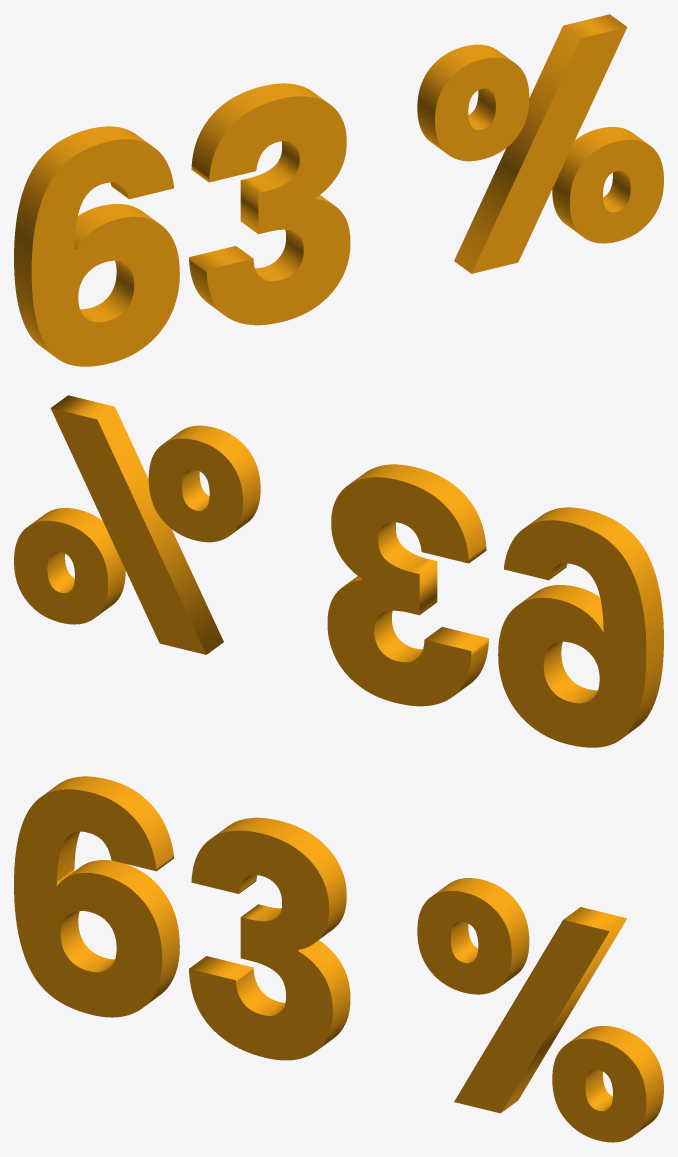
Rendered from yuzdeyazi1.gltf.
3 renders of one model, top to bottom at view 1: azimuth 30°, elevation 25°; view 2: azimuth 150°, elevation 25°; view 3: azimuth 330°, elevation 25°, orthographic.
Parts seen in each view (by area): view 1: simsekyazi.001; view 2: simsekyazi.001; view 3: simsekyazi.001.
Boxes of the visible parts, x1,y1,x2,y2 form: simsekyazi.001: [14, 14, 663, 366]; simsekyazi.001: [14, 395, 663, 747]; simsekyazi.001: [14, 776, 663, 1142].
Bounding box in the file's own units: 0.0944 × 0.0321 × 0.00455.
